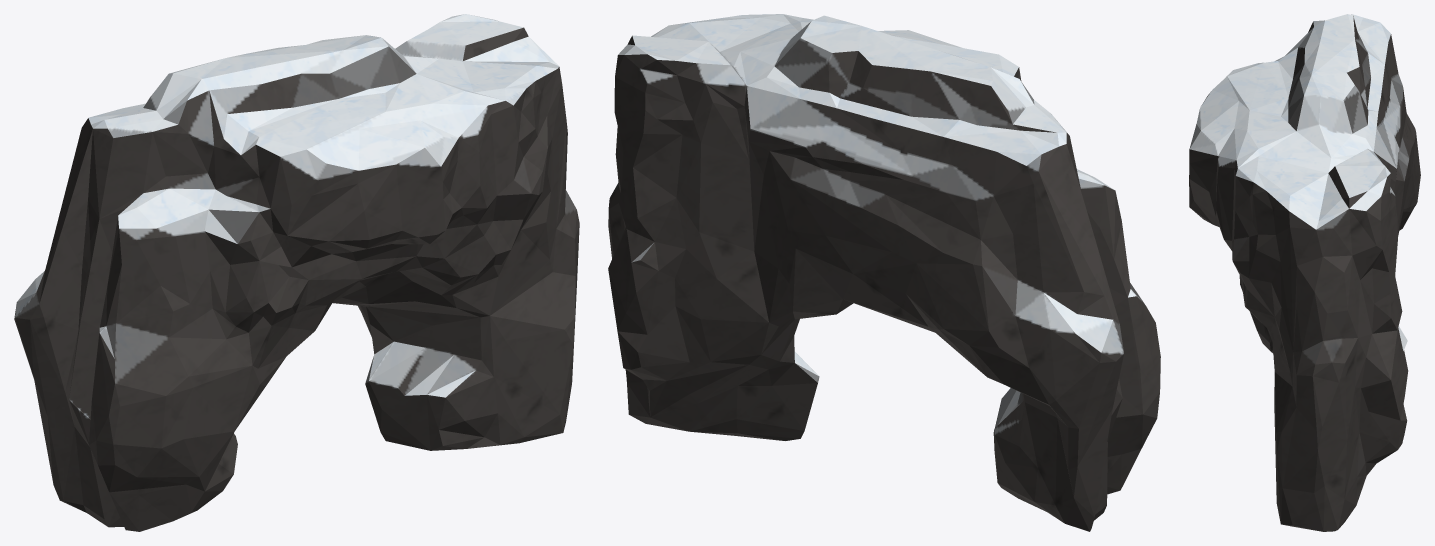
File: pass_arch.gltf
The picture shows the model from 3 angles, left to right: view 1: azimuth 30°, elevation 25°; view 2: azimuth 150°, elevation 25°; view 3: azimuth 270°, elevation 25°; orthographic projection. The views are drawn at different scales.
Visible parts, largest first — view 1: pass_arch; view 2: pass_arch; view 3: pass_arch.
Part boxes in pixels (left/top/right/bottom): pass_arch: left=14, top=14, right=579, bottom=531; pass_arch: left=608, top=14, right=1160, bottom=531; pass_arch: left=1189, top=14, right=1420, bottom=531.
Size of the model in its own units: 10.74 by 8.21 by 4.7.
1 material, 1 textured.
